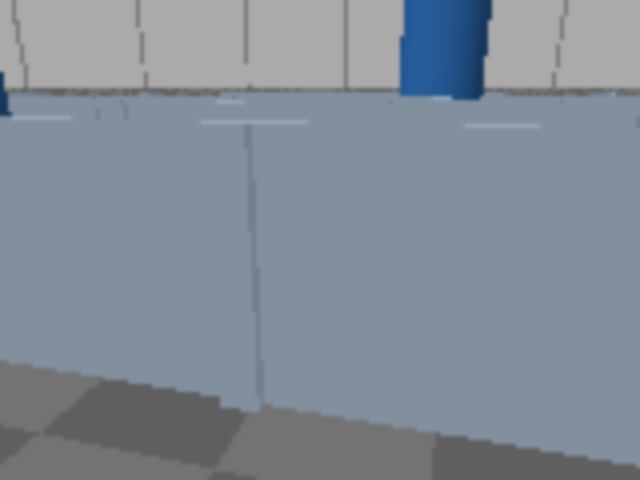person: (0, 0, 13, 276)
